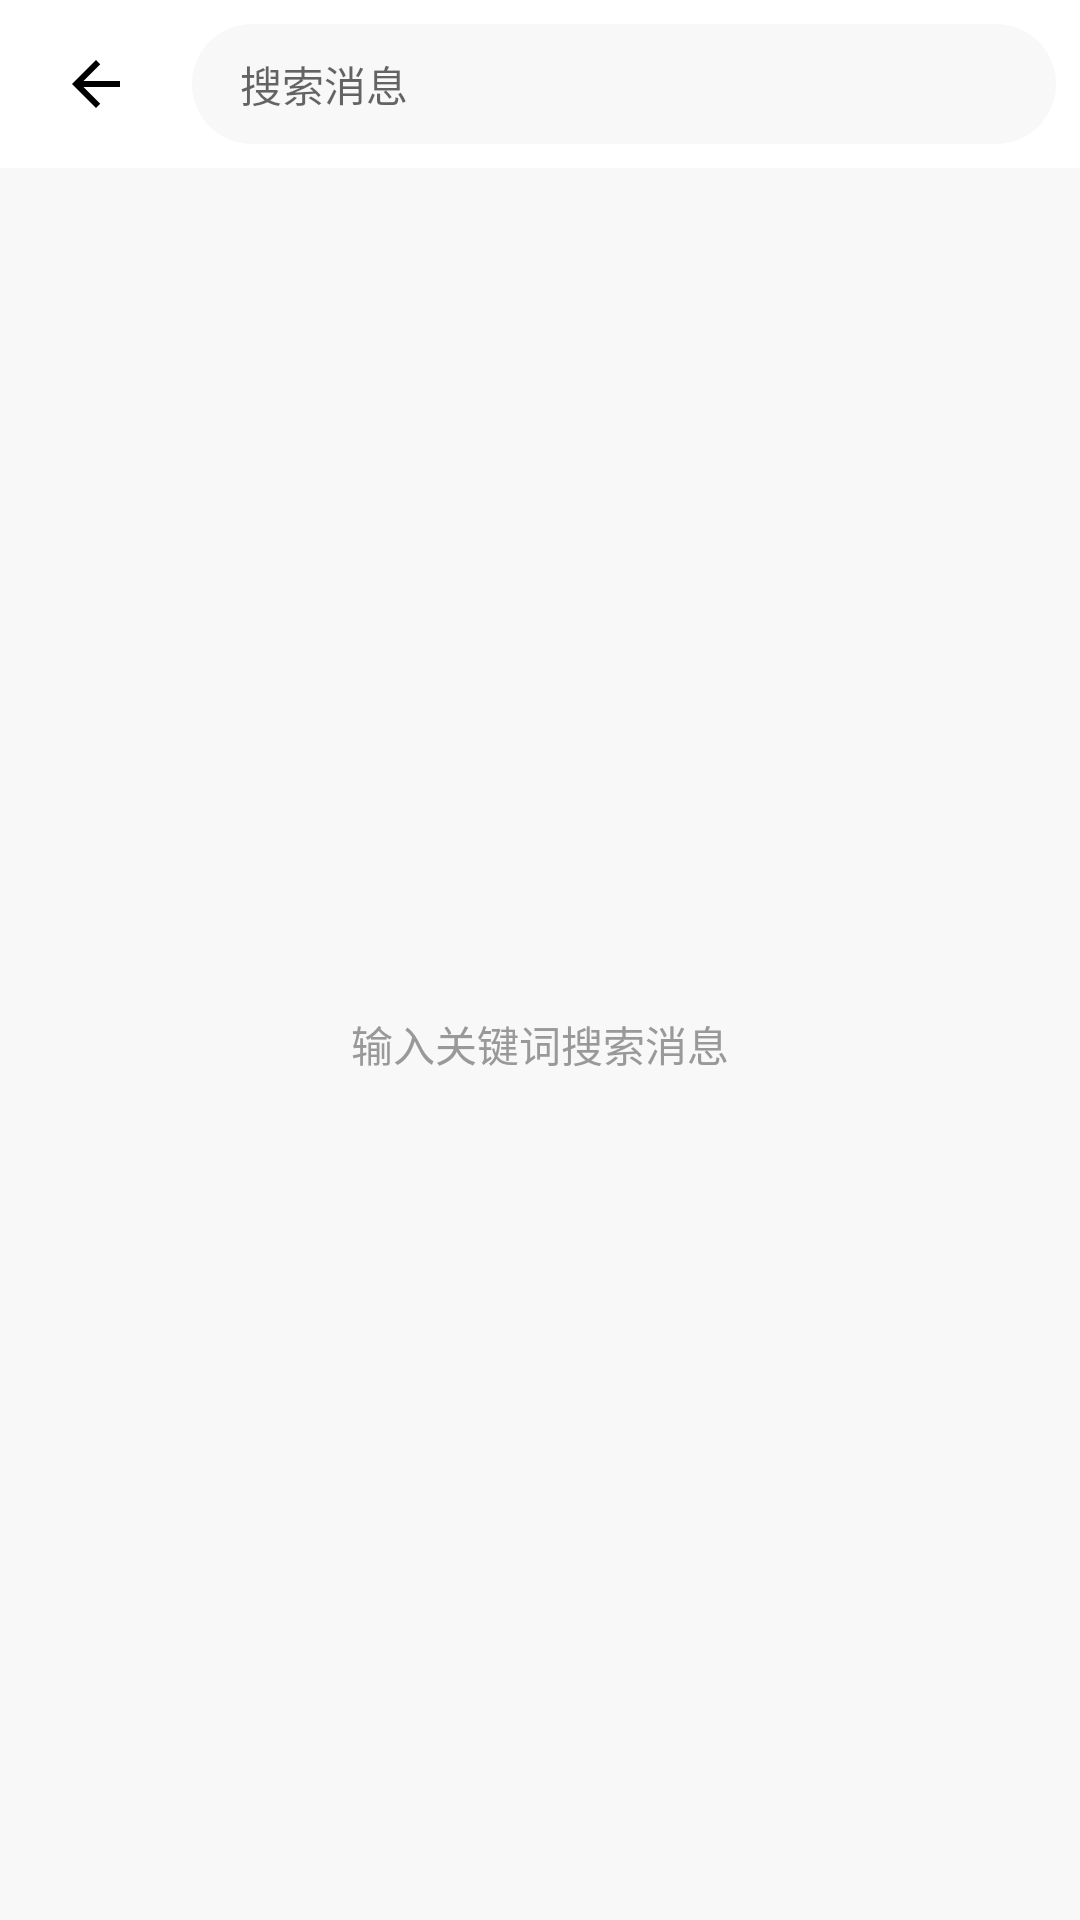

Screen size 1080 x 1920. Icon name, then its center in pixels as [x,y]:
返回: [96,84]
